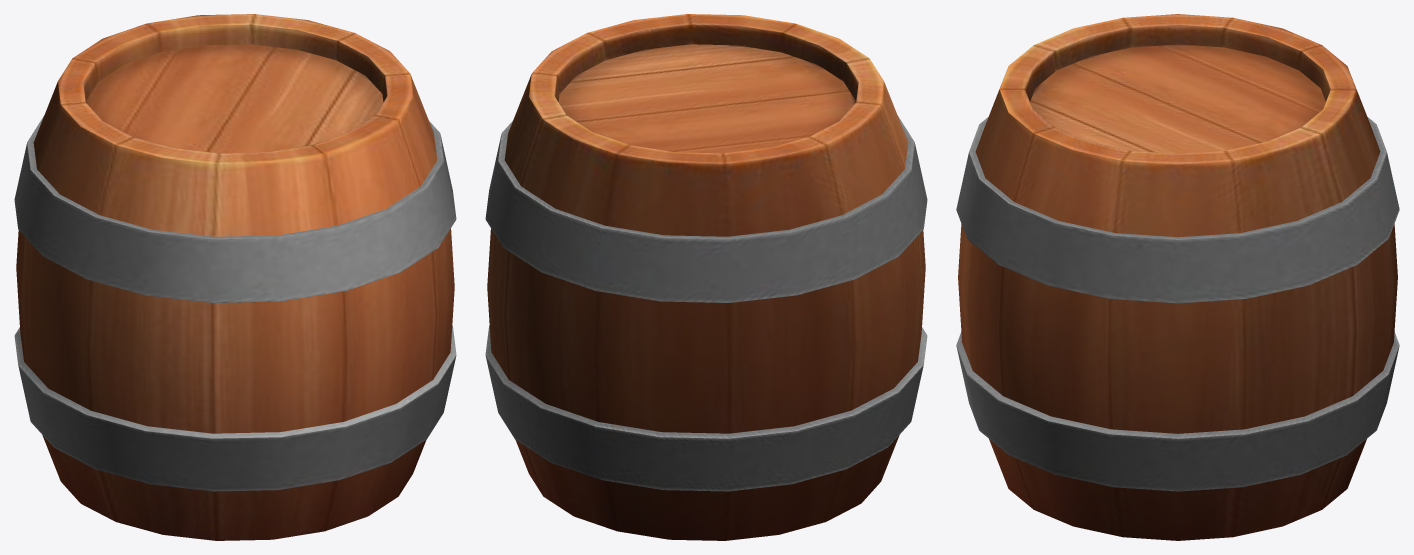
File: barrel.glb
The picture shows the model from 3 angles, left to right: view 1: azimuth 30°, elevation 25°; view 2: azimuth 150°, elevation 25°; view 3: azimuth 270°, elevation 25°; orthographic projection.
Bounding box in the file's own units: 1 × 0.936 × 1.
Materials: 1 (1 with a texture image).
